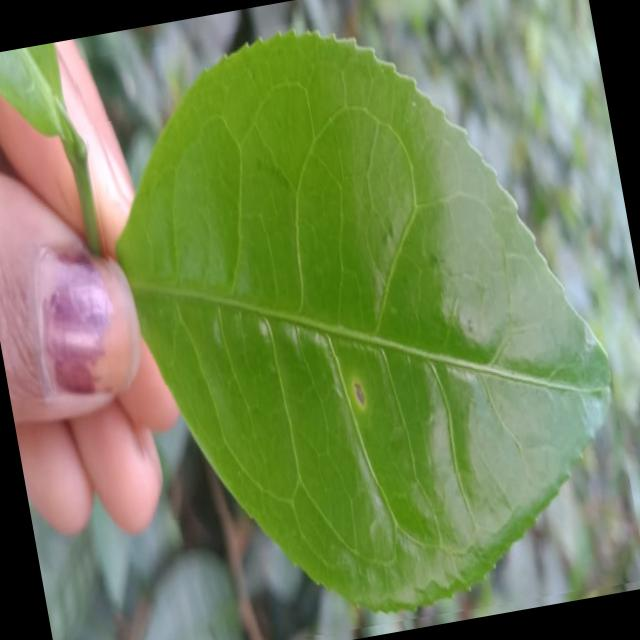Category B 2-4 days: (70, 0, 640, 640)
